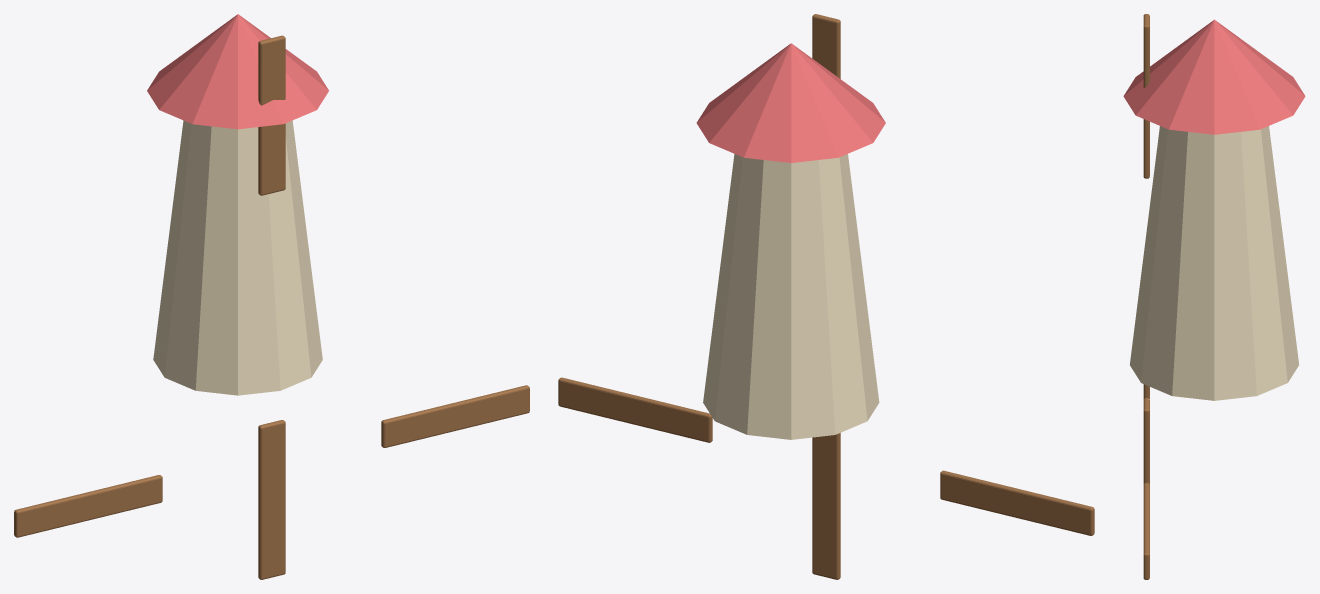
The model's file is race_mill.glb.
The picture shows the model from 3 angles, left to right: view 1: azimuth 30°, elevation 25°; view 2: azimuth 150°, elevation 25°; view 3: azimuth 270°, elevation 25°; orthographic projection. The views are drawn at different scales.
Parts seen in each view (by area): view 1: race_mill; view 2: race_mill; view 3: race_mill.
Boxes of the visible parts, x1,y1,x2,y2 form: race_mill: (14,14,529,579); race_mill: (558,14,1094,579); race_mill: (1123,14,1305,579).
Size of the model in its own units: 28 by 28 by 8.6.
